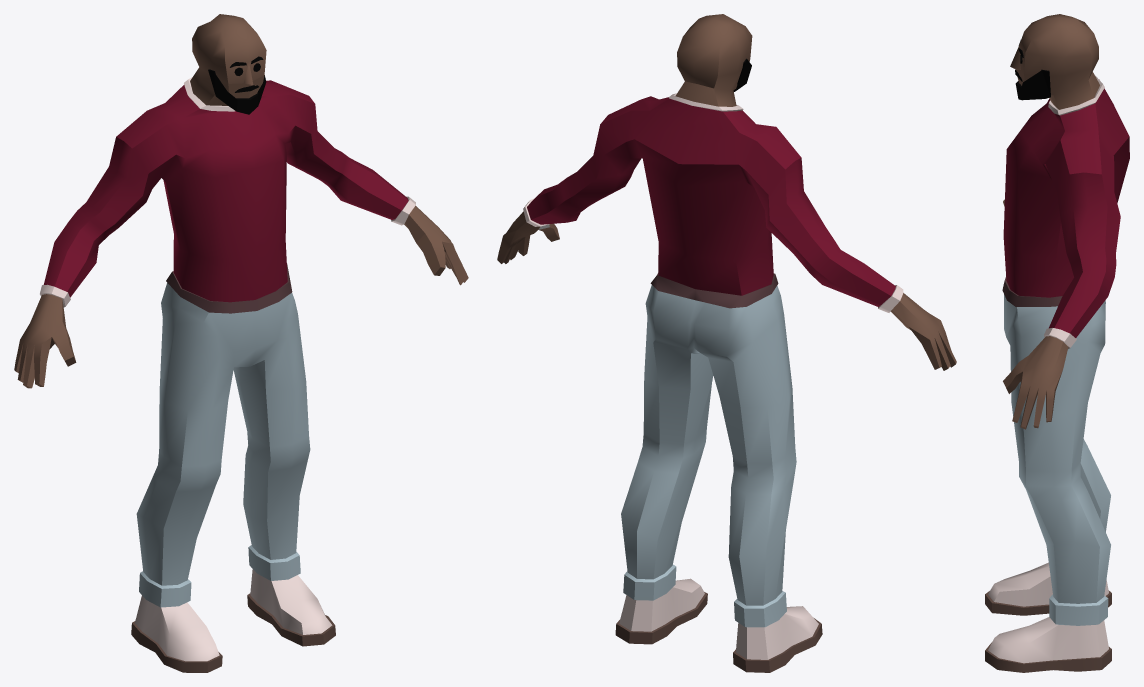
File: LowPolyCharacter3.gltf
3 renders of one model, left to right at view 1: azimuth 30°, elevation 25°; view 2: azimuth 150°, elevation 25°; view 3: azimuth 270°, elevation 25°, orthographic.
Parts seen in each view (by area): view 1: lowPolyCharacterFace4; view 2: lowPolyCharacterFace4; view 3: lowPolyCharacterFace4.
Boxes of the visible parts, box(x1,y1,x2,y2) form: lowPolyCharacterFace4: box(14, 14, 468, 672); lowPolyCharacterFace4: box(497, 14, 956, 672); lowPolyCharacterFace4: box(985, 14, 1129, 672).
Size of the model in its own units: 139 by 184 by 39.22.
